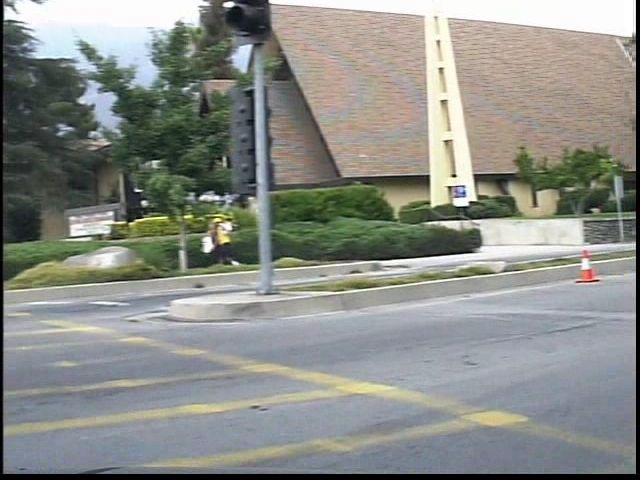person: (220, 211, 258, 270)
